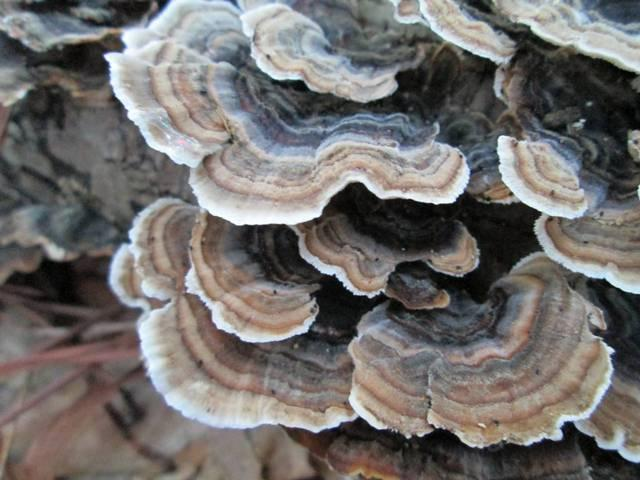poisonous_mushroom: (102, 1, 636, 466), (495, 132, 588, 220)
